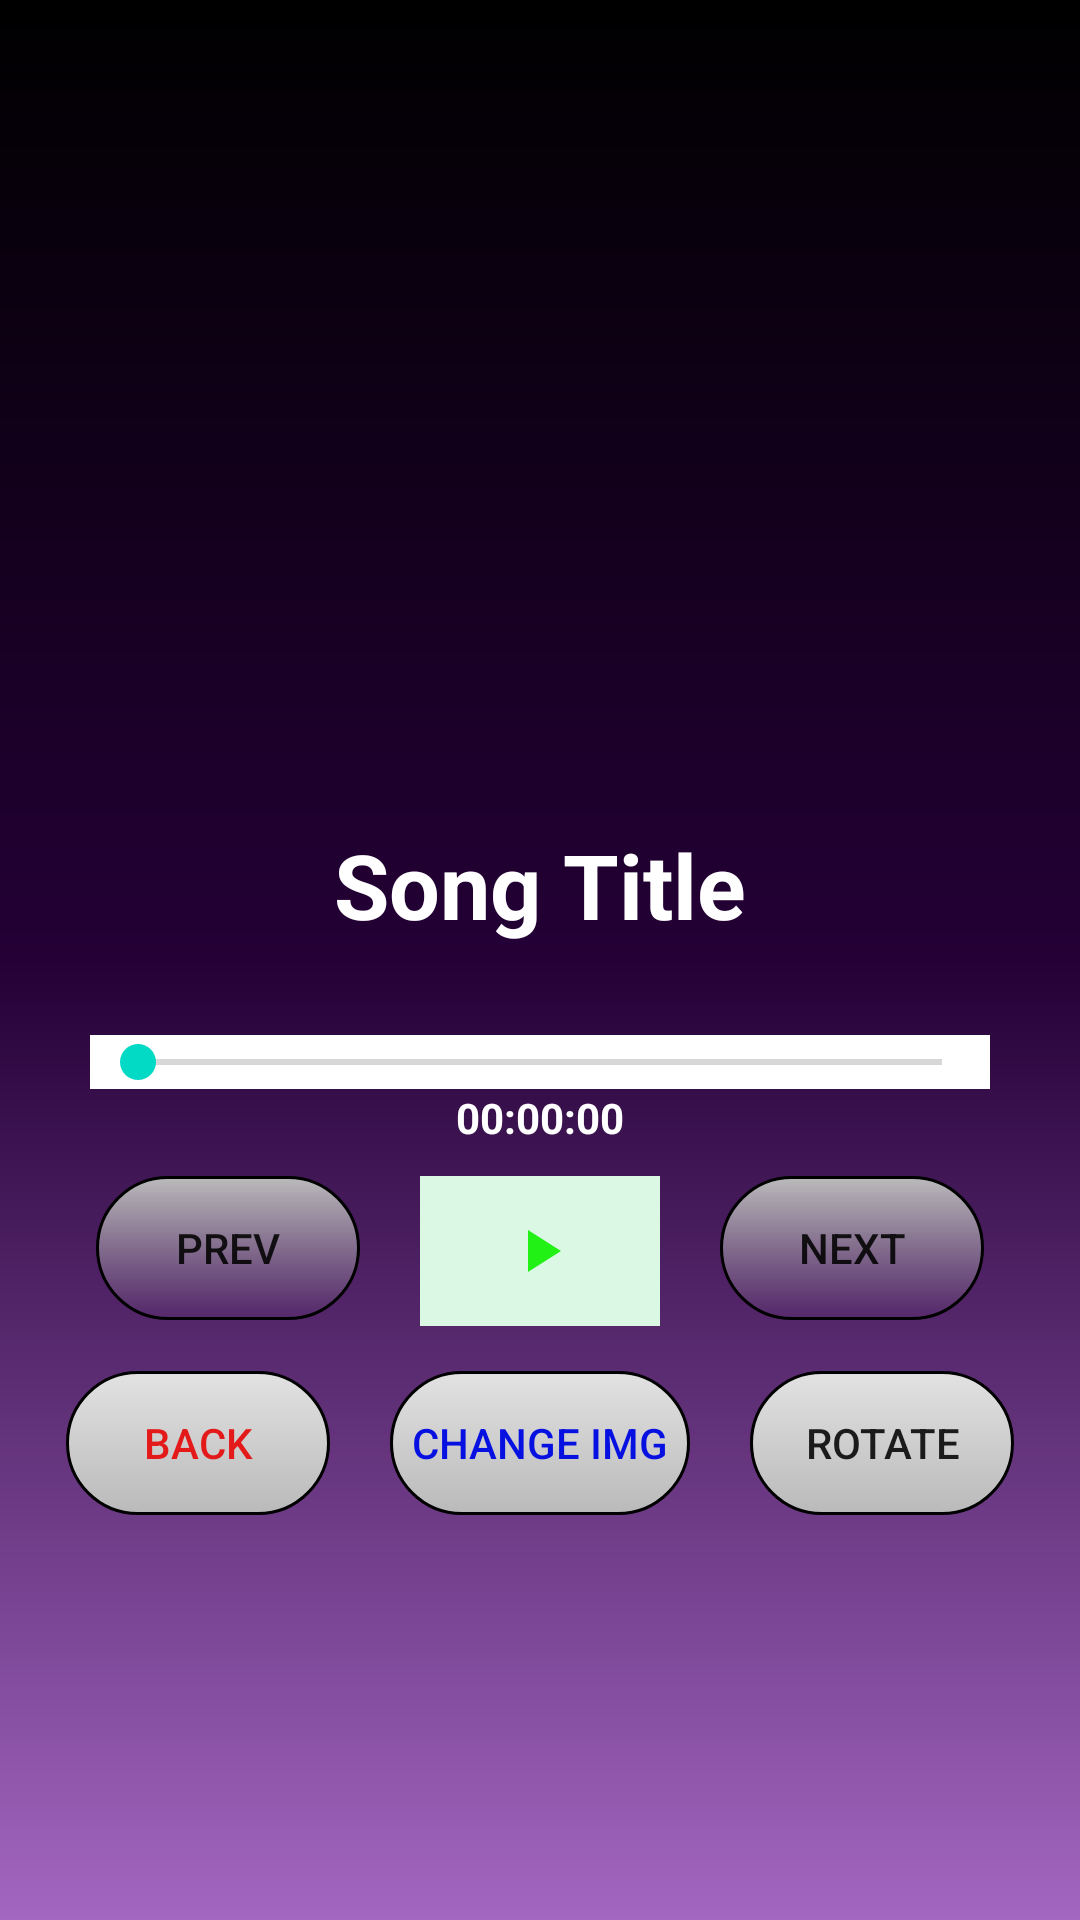

Screen size 1080px x 1920px. Icon name, then its box in pixels as rect(x1, y1, x2, y2):
play: rect(420, 1176, 660, 1326)
